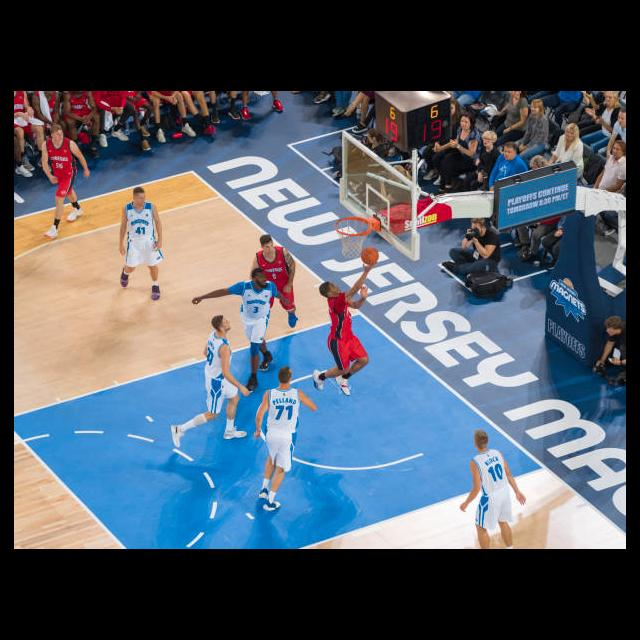basketball: (360, 246, 377, 265)
hoop: (336, 218, 368, 258)
